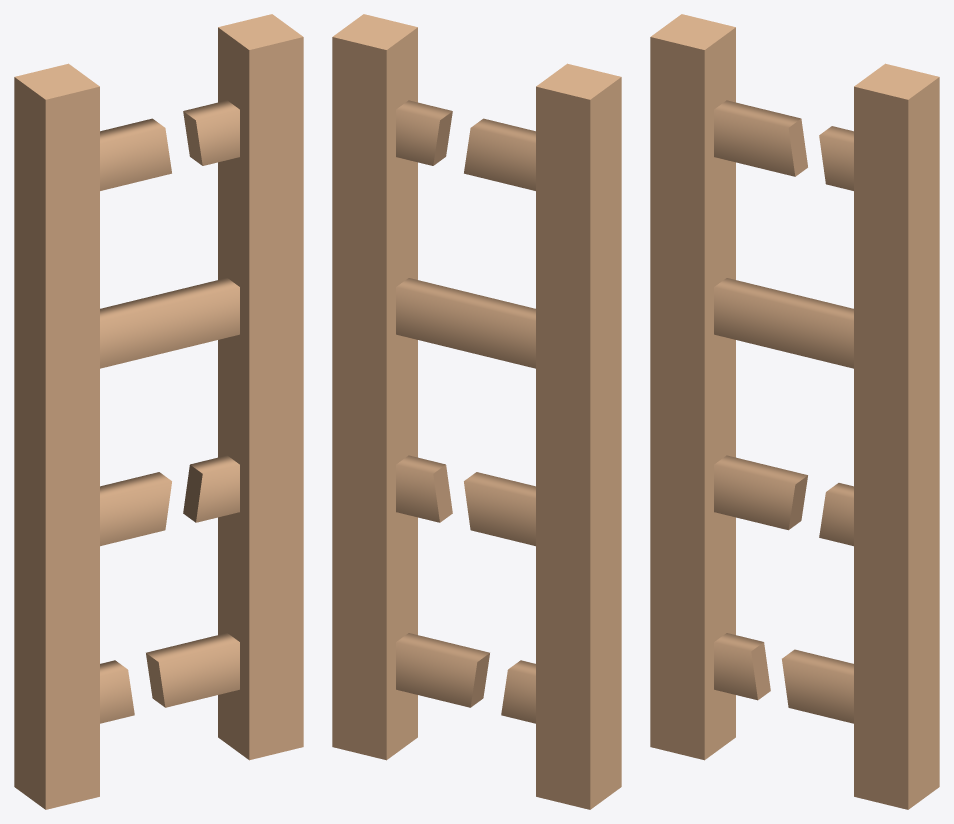
3 views of the same model, side by side, from view 1: azimuth 30°, elevation 25°; view 2: azimuth 150°, elevation 25°; view 3: azimuth 330°, elevation 25° (orthographic).
Visible parts, largest first — view 1: ladderBroken; view 2: ladderBroken; view 3: ladderBroken.
Part boxes in pixels (<box>): ladderBroken: <box>14,14,303,809</box>; ladderBroken: <box>332,14,621,809</box>; ladderBroken: <box>650,14,939,809</box>.
Size of the model in its own units: 0.38 by 1 by 0.08.
